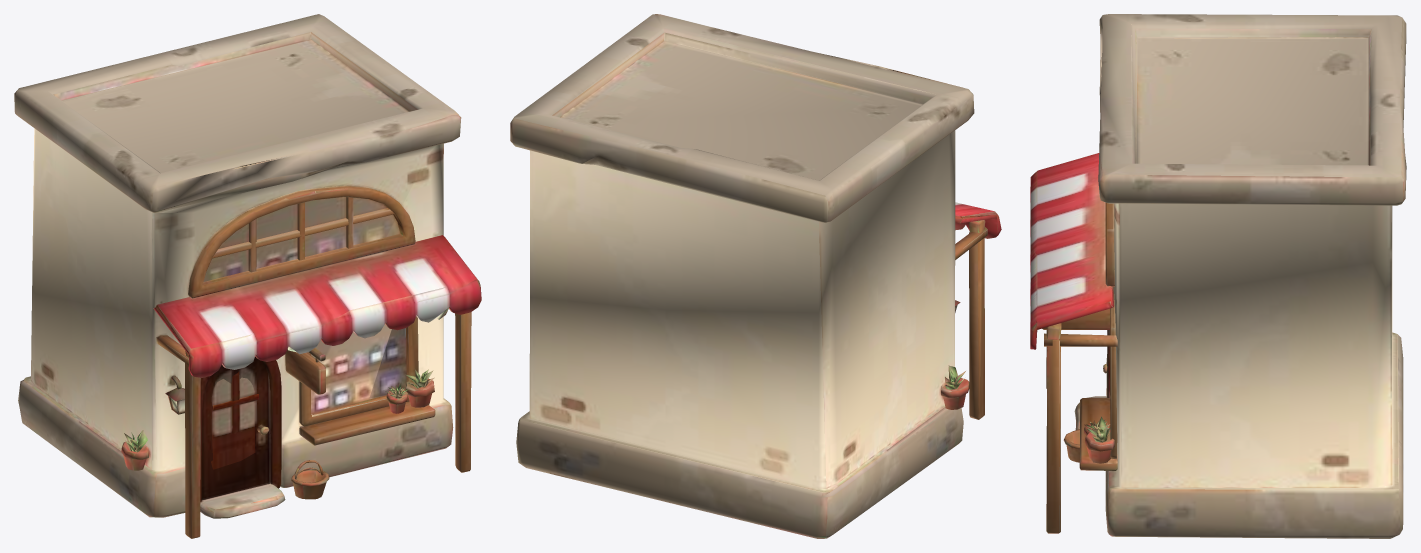
File: shop_m.glb
3 views of the same model, side by side, from view 1: azimuth 30°, elevation 25°; view 2: azimuth 150°, elevation 25°; view 3: azimuth 270°, elevation 25° (orthographic). The views are drawn at different scales.
Bounding box in the file's own units: 0.9472 × 0.9517 × 0.8843.
1 material, 1 textured.
